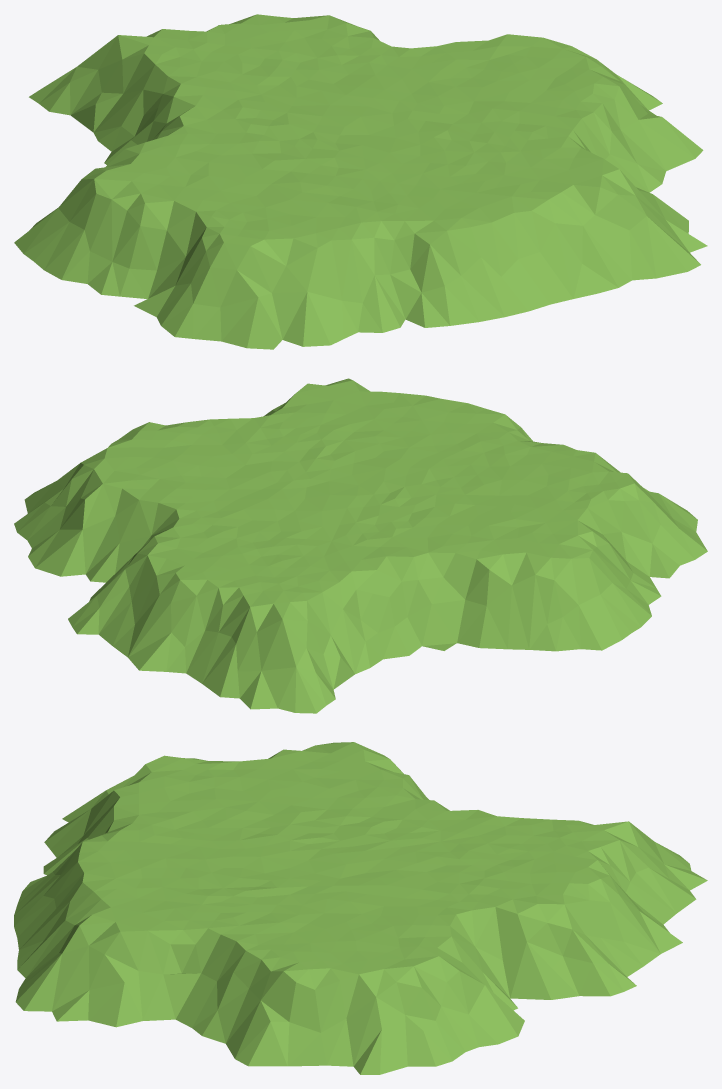
The model's file is MT_Island_L_a_12.fbx.
The picture shows the model from 3 angles, top to bottom: view 1: azimuth 30°, elevation 25°; view 2: azimuth 150°, elevation 25°; view 3: azimuth 270°, elevation 25°; orthographic projection. The views are drawn at different scales.
Visible parts, largest first — view 1: MT_Island_L_a_12; view 2: MT_Island_L_a_12; view 3: MT_Island_L_a_12.
Boxes of the visible parts, x1,y1,x2,y2 form: MT_Island_L_a_12: (14, 14, 707, 349); MT_Island_L_a_12: (14, 378, 707, 713); MT_Island_L_a_12: (14, 742, 707, 1074).
Bounding box in the file's own units: 8778 × 908 × 8634.
